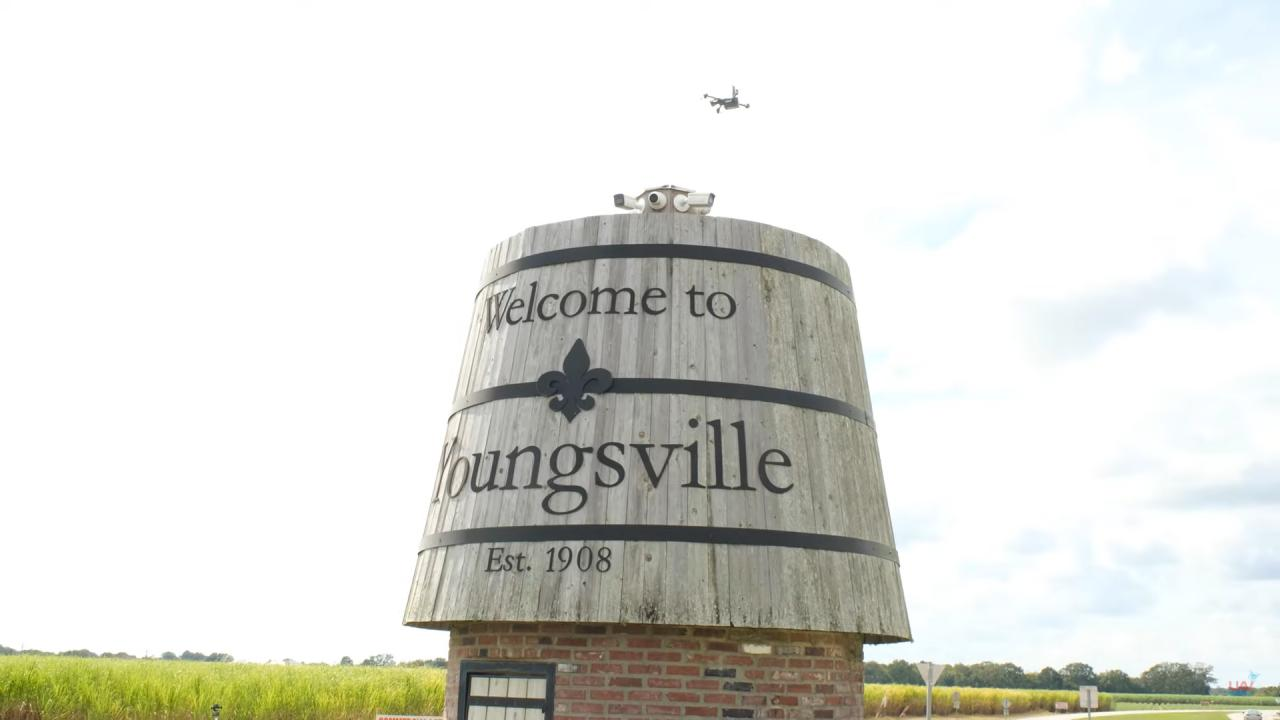Drone: (691, 75, 762, 125)
